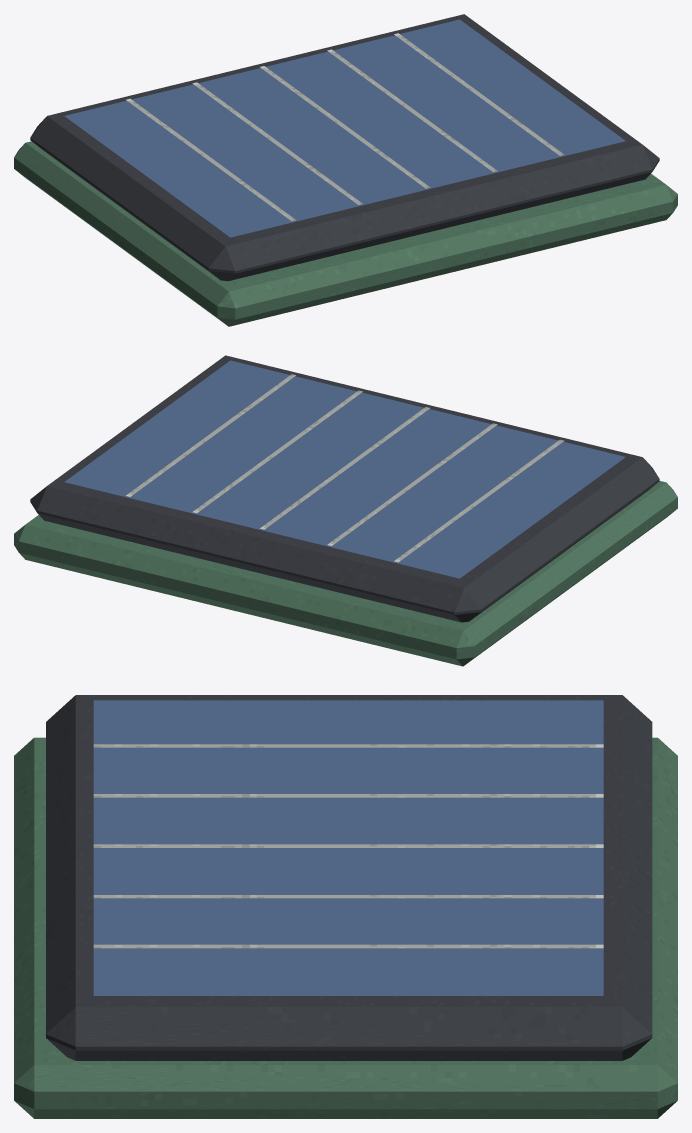
File: solar_cell.glb
3 views of the same model, one above another, from view 1: azimuth 30°, elevation 25°; view 2: azimuth 150°, elevation 25°; view 3: azimuth 270°, elevation 25° (orthographic). The views are drawn at different scales.
Parts seen in each view (by area): view 1: block_panel glass, block_panel surround, block_circuit substrate, block_cell divider (×5); view 2: block_panel glass, block_panel surround, block_circuit substrate, block_cell divider (×5); view 3: block_panel glass, block_panel surround, block_circuit substrate, block_cell divider (×5).
Part boxes in pixels (x1,y1,x2,y2): block_panel glass: [64, 19, 625, 237]; block_panel surround: [30, 14, 659, 281]; block_circuit substrate: [14, 141, 677, 326]; block_cell divider (×5): [126, 33, 564, 221]; block_panel glass: [64, 360, 625, 578]; block_panel surround: [30, 355, 659, 622]; block_circuit substrate: [14, 481, 677, 666]; block_cell divider (×5): [126, 374, 564, 562]; block_panel glass: [93, 700, 603, 995]; block_panel surround: [46, 695, 652, 1060]; block_circuit substrate: [14, 737, 677, 1118]; block_cell divider (×5): [93, 744, 603, 948].
Size of the model in its own units: 0.15 by 0.0221 by 0.1222.
Materials: 1 (1 with a texture image).
